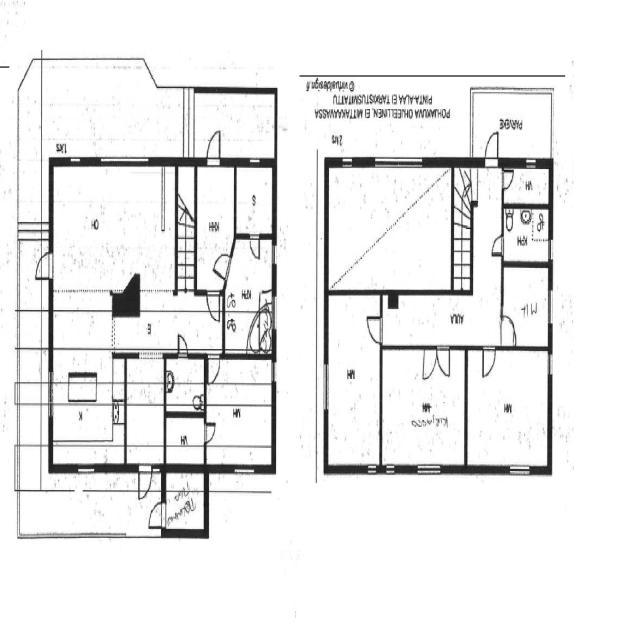door: (547, 286, 569, 326), (204, 127, 223, 166), (364, 313, 385, 347), (483, 128, 501, 167), (498, 312, 518, 347), (435, 342, 452, 381), (34, 252, 54, 285), (480, 344, 498, 380), (137, 464, 154, 501), (213, 249, 230, 286), (205, 288, 222, 324), (147, 500, 165, 531), (206, 352, 221, 386), (546, 286, 558, 328), (500, 165, 515, 194), (248, 232, 262, 262), (490, 232, 506, 258), (202, 419, 218, 445), (176, 332, 190, 359)
window: (372, 150, 424, 173), (414, 460, 444, 479), (321, 358, 331, 414), (506, 460, 533, 480), (232, 463, 256, 481), (46, 376, 55, 422), (546, 286, 555, 329), (75, 462, 97, 479), (546, 350, 556, 380), (383, 460, 398, 480), (272, 295, 279, 332), (246, 154, 264, 168), (547, 235, 556, 262), (340, 154, 355, 170), (270, 360, 278, 389), (524, 155, 539, 170), (271, 244, 279, 268)
zone: (50, 164, 174, 313), (326, 163, 452, 290), (381, 345, 466, 470), (466, 348, 550, 470), (326, 293, 382, 469), (49, 341, 124, 468), (205, 355, 274, 470), (224, 238, 275, 356), (472, 91, 552, 163), (192, 92, 274, 159), (195, 161, 235, 292), (126, 355, 164, 467), (502, 264, 551, 348), (234, 162, 274, 235), (502, 205, 551, 264), (164, 468, 206, 534), (164, 354, 206, 414), (163, 413, 206, 467), (502, 164, 550, 206)
